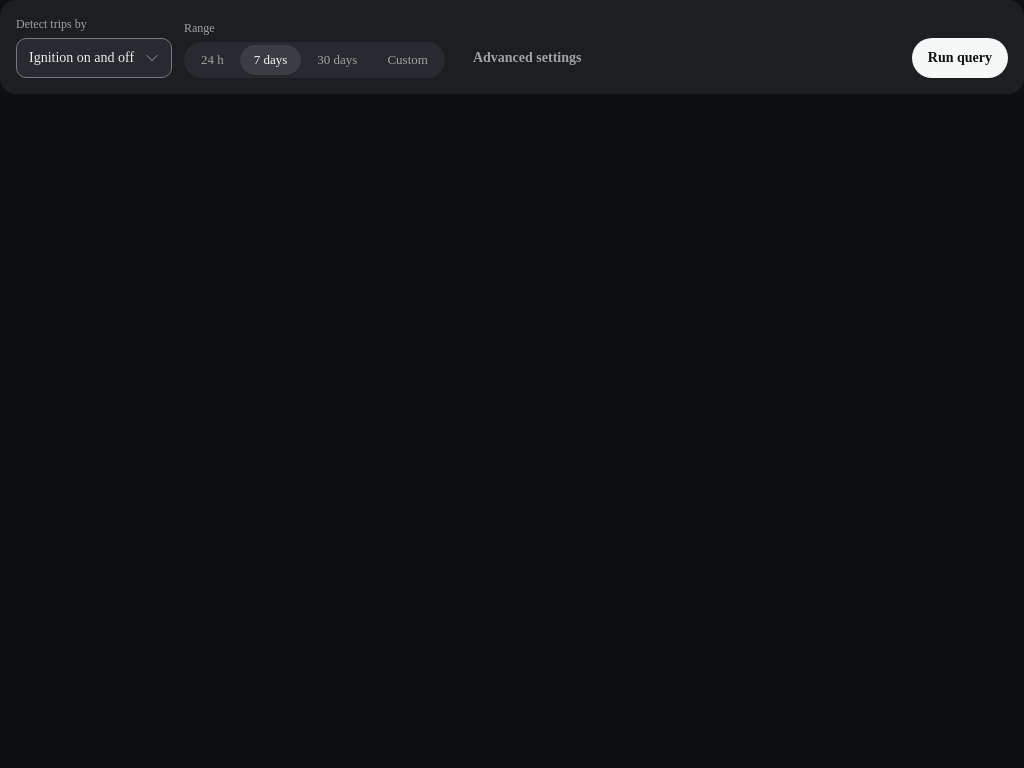
Test case: TripsTab › runs segments and daily activity with the chosen mechanism and range
Select "Signal frequency" in the dropdown labelled "Detect trips by". click: (94, 58)
box: x1=16 y1=38 x2=172 y2=78
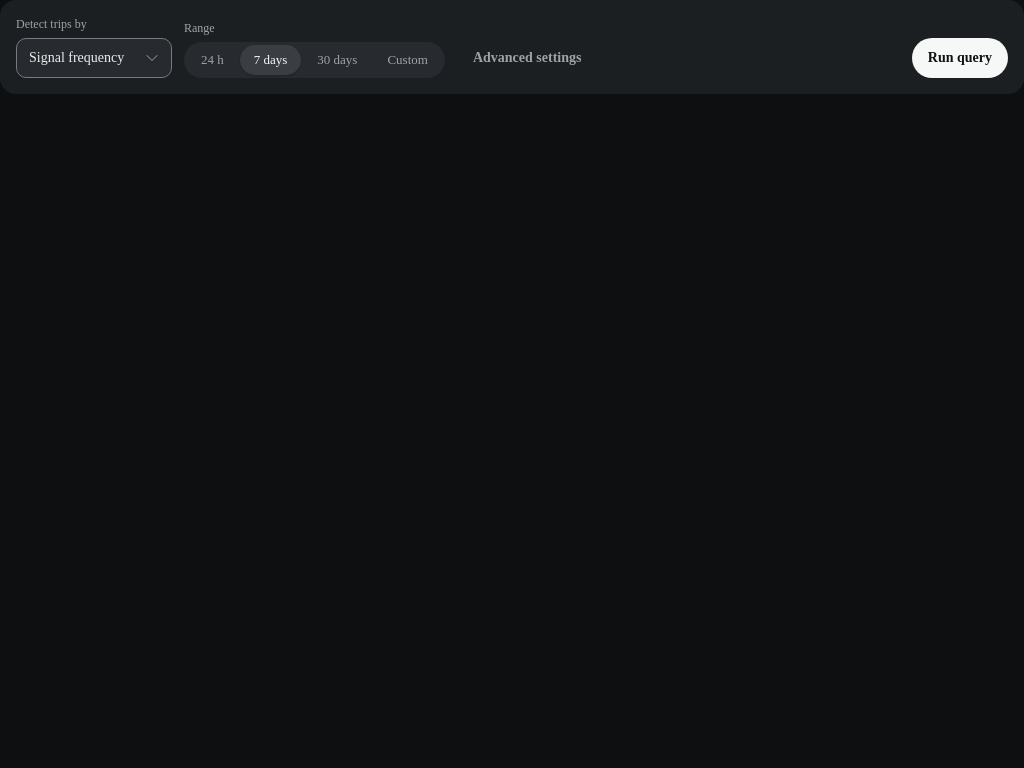
Click the button "Run query". click: (960, 58)
box: x1=912 y1=38 x2=1008 y2=78
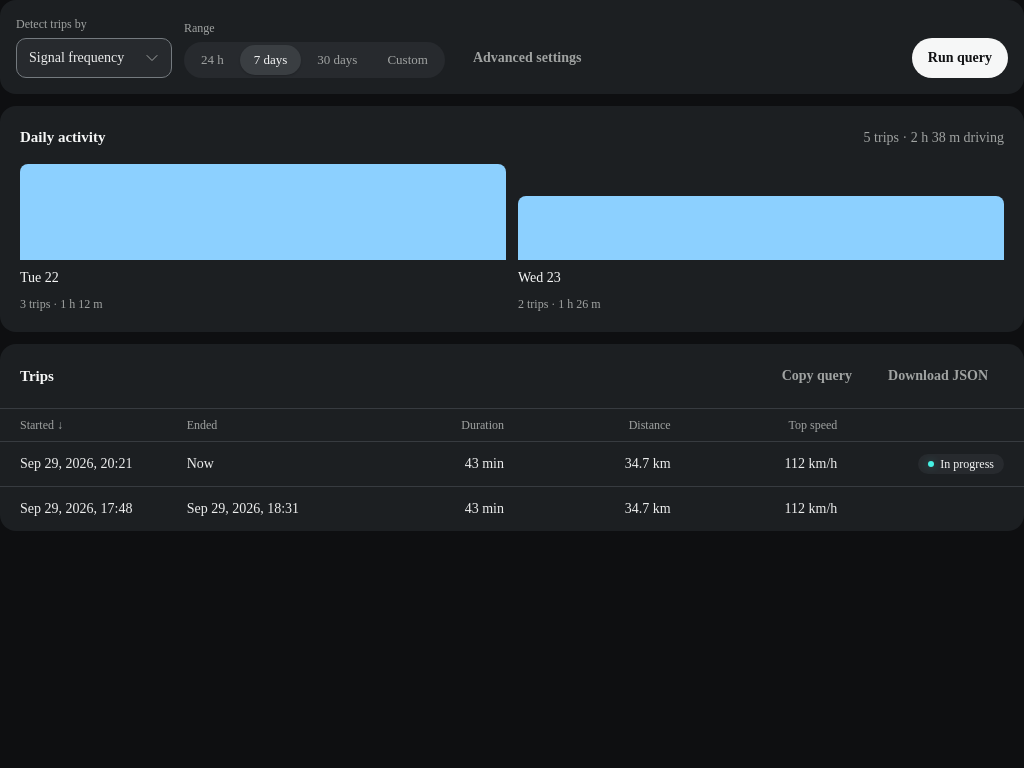
Result: the text "5 trips · 2 h 38 m driving" is shown at x1=864 y1=128 x2=1004 y2=148
Result: the text "In progress" is shown at x1=918 y1=454 x2=1004 y2=474
Result: the text "43 min" is shown 2 times at x1=465 y1=456 x2=504 y2=471; x1=465 y1=501 x2=504 y2=516
